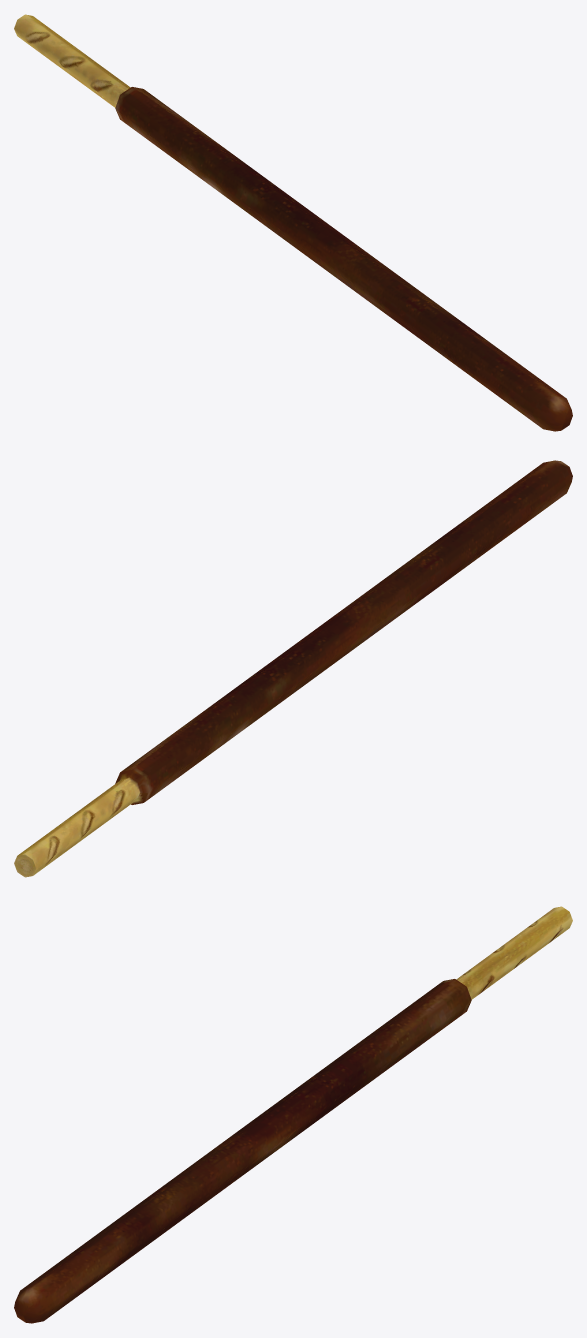
3 views of the same model, one above another, from view 1: azimuth 30°, elevation 25°; view 2: azimuth 150°, elevation 25°; view 3: azimuth 330°, elevation 25° (orthographic).
Visible parts, largest first — view 1: i003016; view 2: i003016; view 3: i003016.
Part boxes in pixels (x1,y1,x2,y2): i003016: (14, 14, 572, 431); i003016: (14, 460, 572, 877); i003016: (14, 906, 572, 1323).
Bounding box in the file's own units: 4.89 × 4.89 × 136.
Materials: 1 (1 with a texture image).
